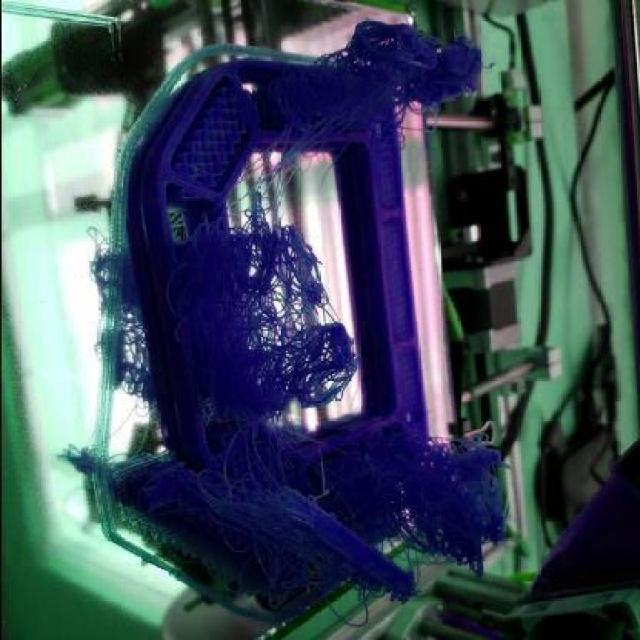Spaghetti: (119, 429, 518, 623), (154, 159, 368, 435), (255, 15, 492, 164)
